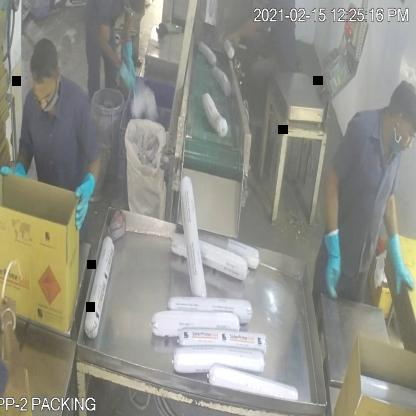glove: (316, 220, 348, 309), (384, 213, 414, 299), (66, 164, 102, 231)
no_glove: (224, 10, 266, 49)
